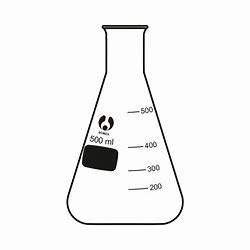Titrarion: (43, 16, 195, 225)
